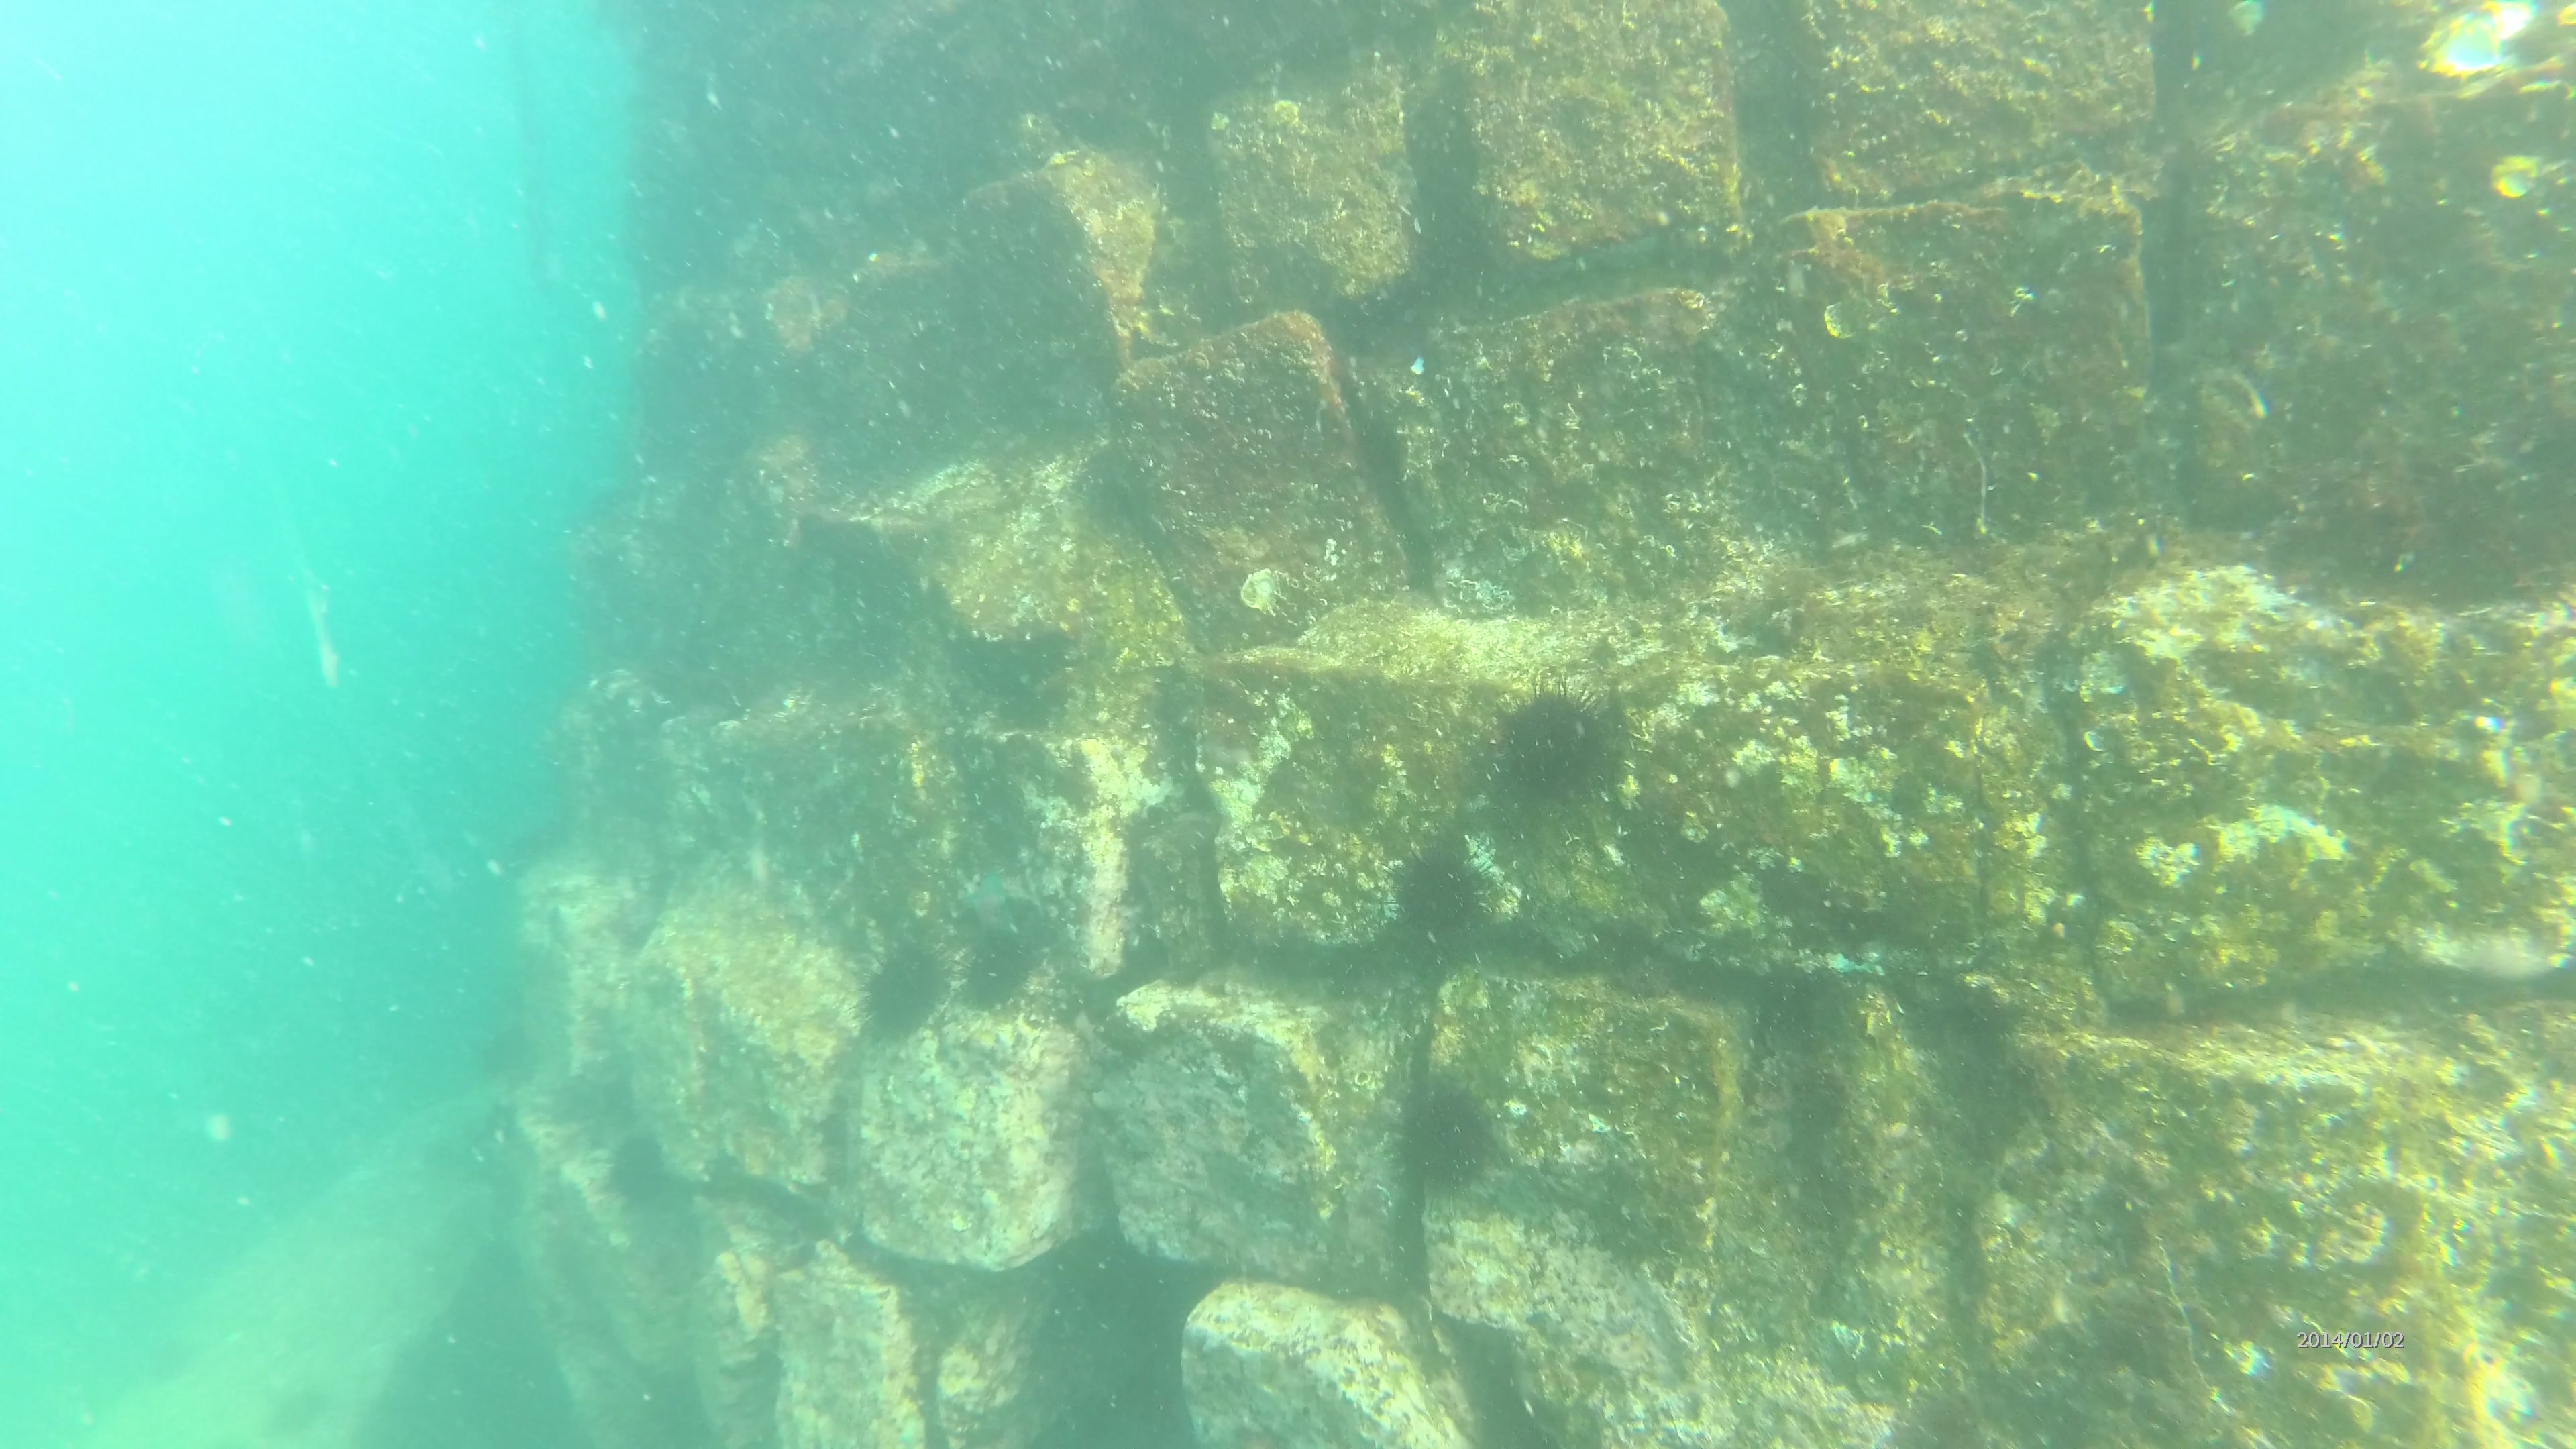echinus: (1483, 678, 1628, 823), (1396, 1076, 1507, 1210), (1385, 846, 1497, 961), (853, 943, 952, 1035), (959, 927, 1044, 1019), (603, 1129, 676, 1205)
